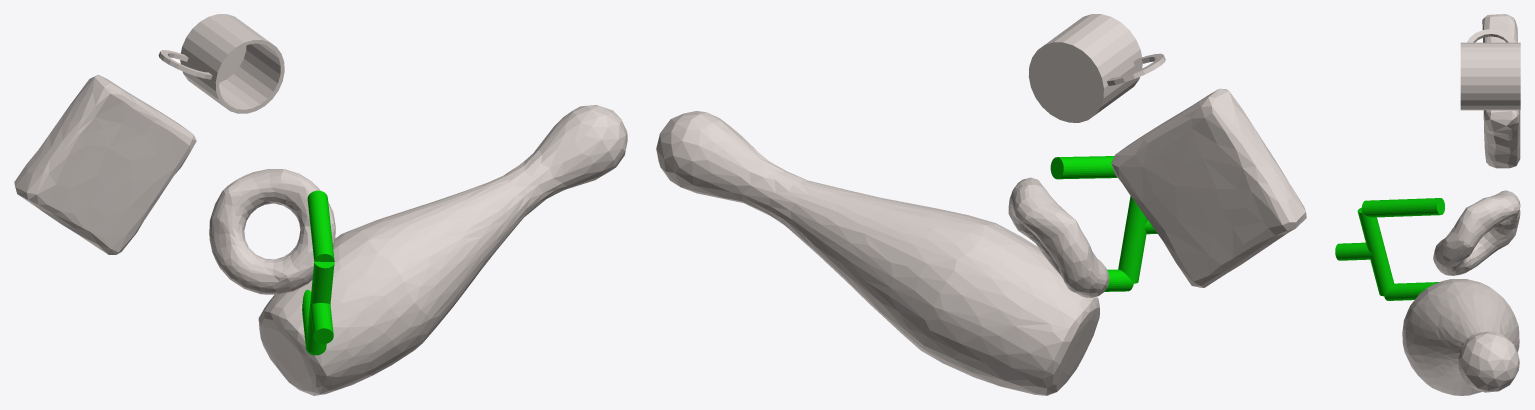
The model's file is round_000_trial_001.obj.
3 views of the same model, side by side, from view 1: azimuth 30°, elevation 25°; view 2: azimuth 150°, elevation 25°; view 3: azimuth 270°, elevation 25° (orthographic). The views are drawn at different scales.
Parts seen in each view (by area): view 1: geometry_0, geometry_1; view 2: geometry_0, geometry_1; view 3: geometry_0, geometry_1.
Boxes of the visible parts, x1,y1,x2,y2 form: geometry_0: (14,14,627,395); geometry_1: (302,190,334,355); geometry_0: (656,14,1306,395); geometry_1: (1050,156,1157,291); geometry_0: (1402,14,1520,395); geometry_1: (1335,198,1444,300).
Size of the model in its own units: 0.3376 by 0.1955 by 0.108.
